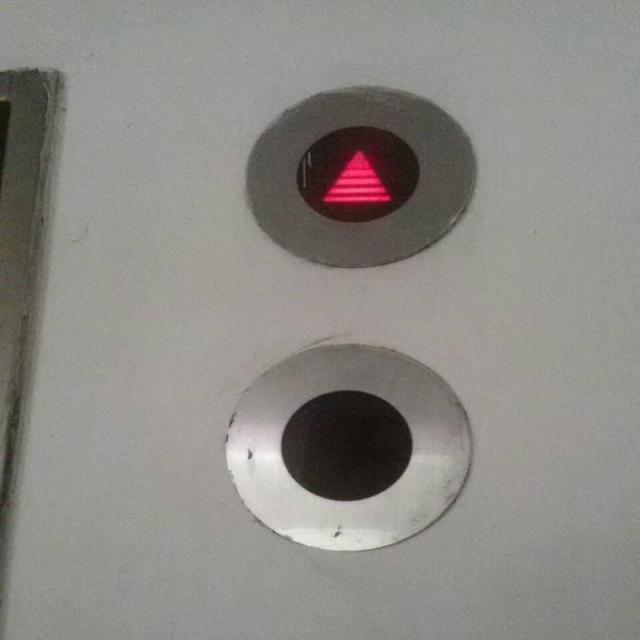empty: (221, 337, 477, 557)
up: (238, 79, 480, 273)
